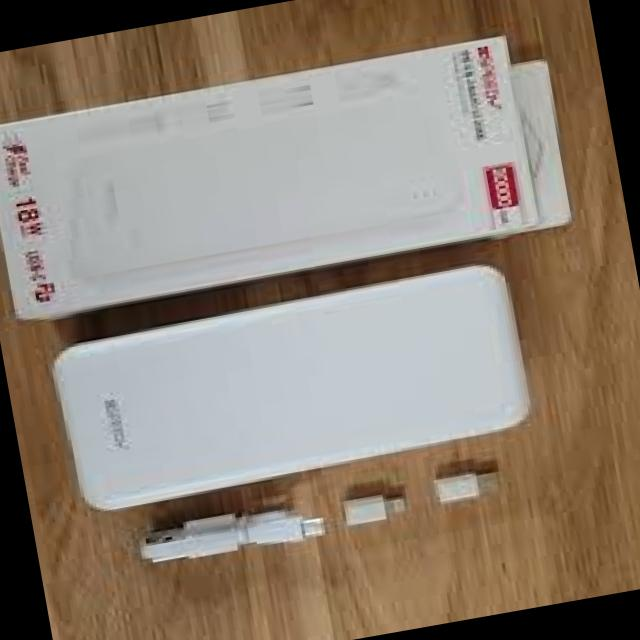portable-charger: (49, 259, 538, 520), (52, 96, 463, 294)
